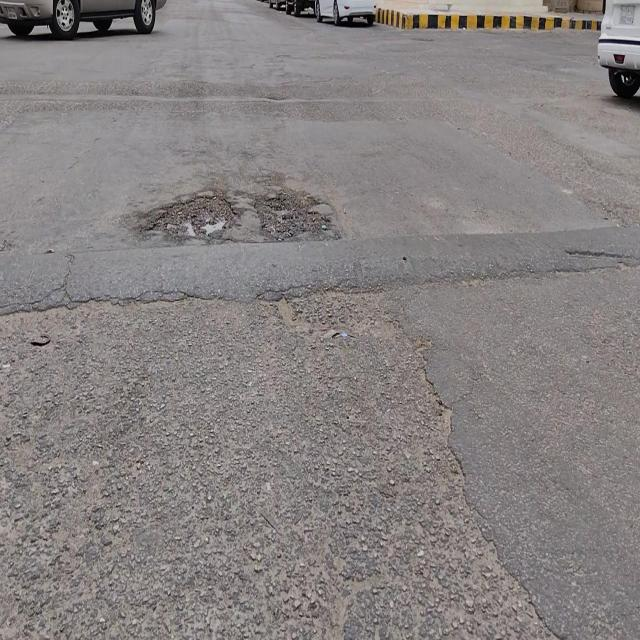Potholes: (143, 195, 239, 243), (253, 192, 328, 240)
